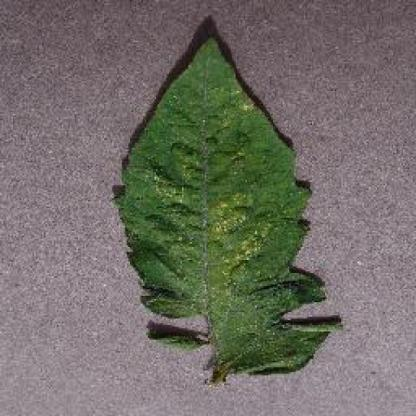Tomato_Spider_Mites: (120, 37, 342, 372)
